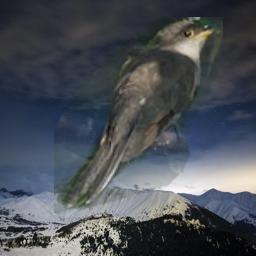Cuckoo: (54, 17, 223, 214)
